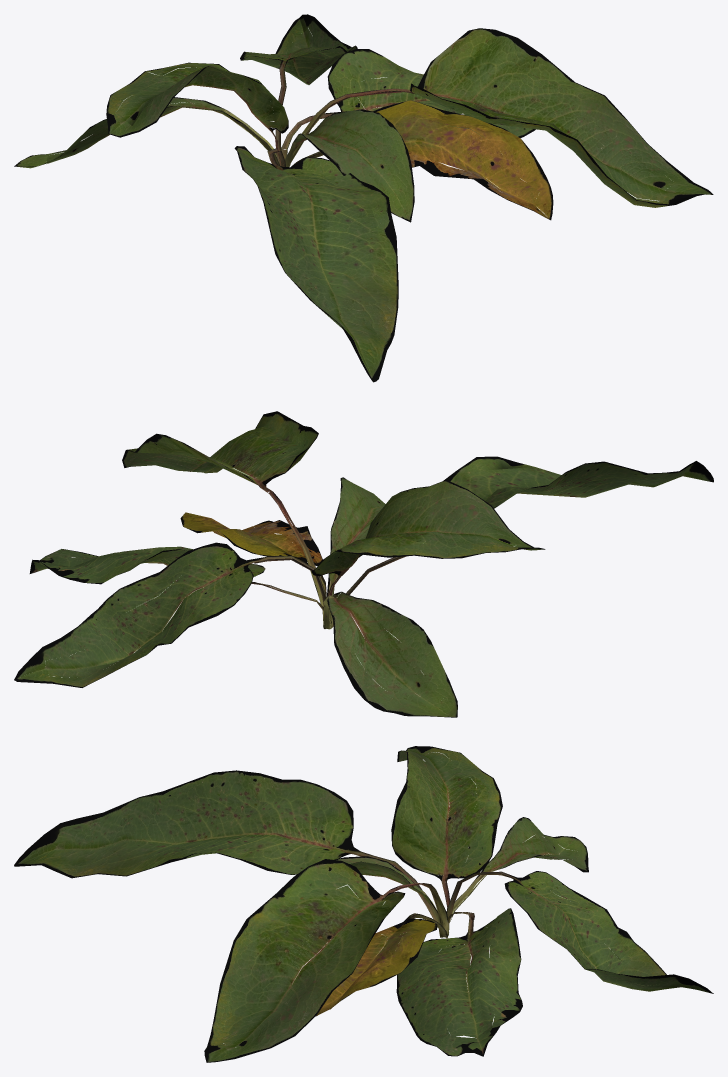
The model's file is weed_plant_02.glb.
The picture shows the model from 3 angles, top to bottom: view 1: azimuth 30°, elevation 25°; view 2: azimuth 150°, elevation 25°; view 3: azimuth 270°, elevation 25°; orthographic projection. The views are drawn at different scales.
Parts seen in each view (by area): view 1: weed_plant_02; view 2: weed_plant_02; view 3: weed_plant_02.
Boxes of the visible parts, left/top/right/bottom form: weed_plant_02: left=14, top=14, right=713, bottom=382; weed_plant_02: left=14, top=411, right=713, bottom=717; weed_plant_02: left=14, top=746, right=713, bottom=1062.
Bounding box in the file's own units: 0.2194 × 0.0725 × 0.2909.
1 material, 1 textured.
